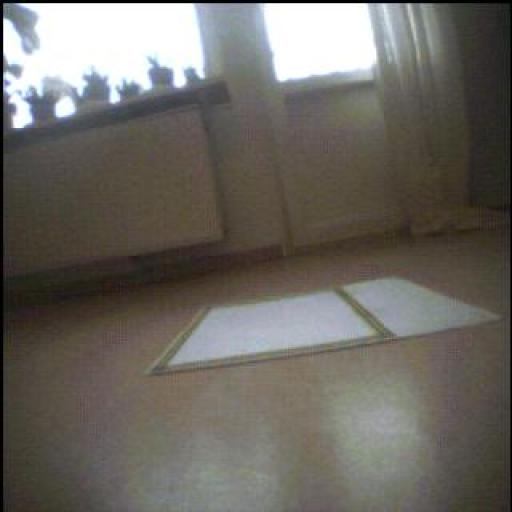Pad: (150, 280, 500, 376)
